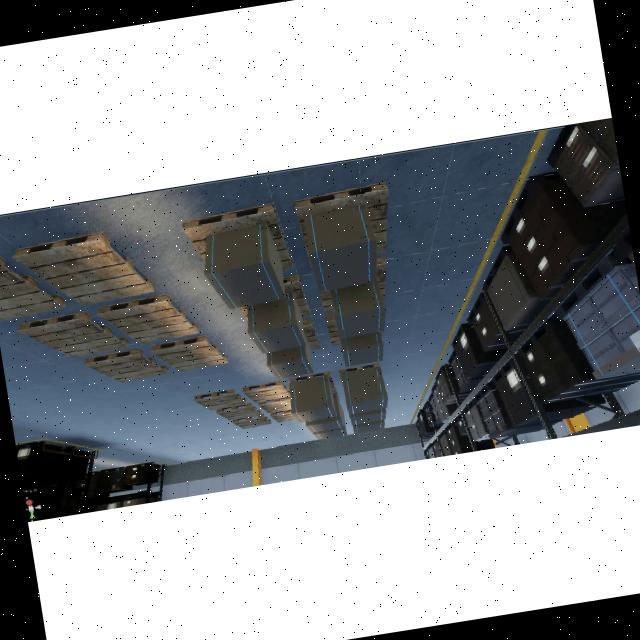wooden_pallet: (10, 232, 151, 304), (291, 182, 389, 267), (179, 202, 292, 268), (18, 312, 128, 359), (97, 296, 199, 346), (0, 258, 66, 324), (150, 336, 229, 374), (86, 349, 170, 382), (194, 389, 246, 411), (242, 381, 290, 403), (216, 404, 260, 421), (258, 397, 292, 414), (232, 415, 271, 429), (337, 363, 379, 374), (289, 371, 329, 382), (270, 410, 298, 423)
